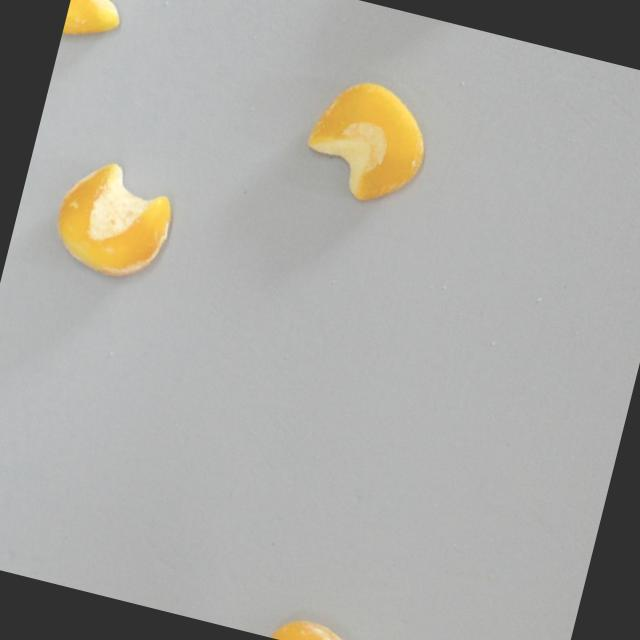no_canjicado: (297, 68, 441, 213), (61, 0, 126, 48)
pelicula: (44, 150, 181, 286), (263, 607, 377, 640)
